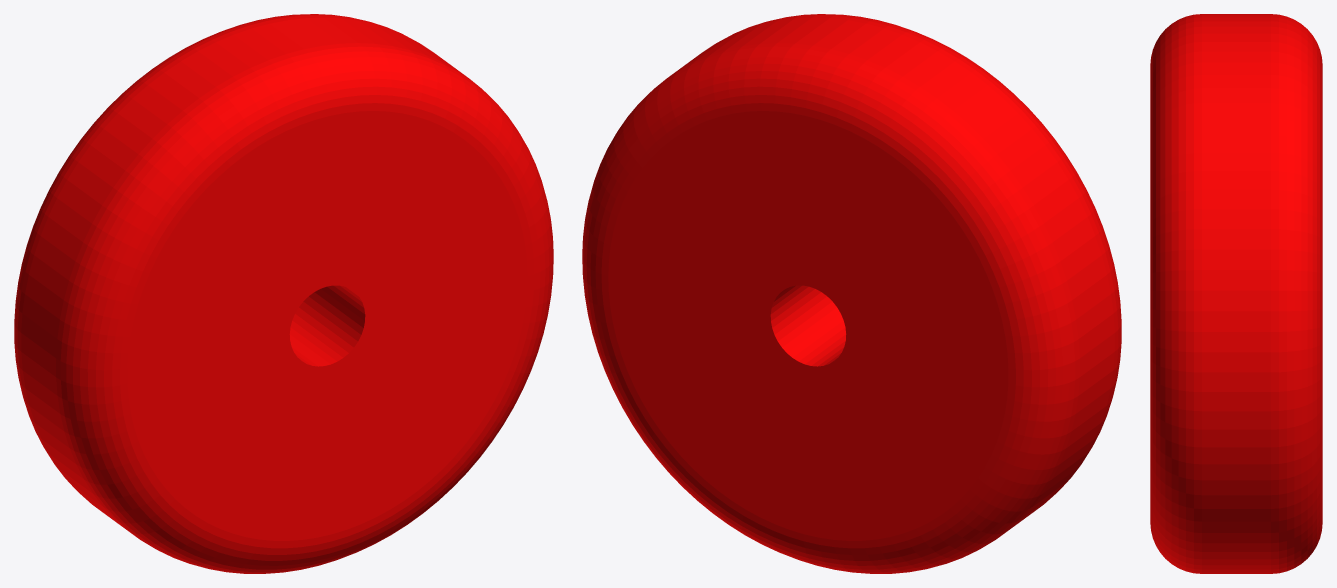
The model's file is bot_Wheel1.dae.
3 renders of one model, left to right at view 1: azimuth 30°, elevation 25°; view 2: azimuth 150°, elevation 25°; view 3: azimuth 270°, elevation 25°, orthographic.
Parts seen in each view (by area): view 1: Wheel1; view 2: Wheel1; view 3: Wheel1.
Part boxes in pixels (x1,y1,x2,y2): Wheel1: [14, 14, 553, 573]; Wheel1: [582, 14, 1121, 573]; Wheel1: [1150, 14, 1322, 573].
Bounding box in the file's own units: 0.6498 × 0.2 × 0.6499.
